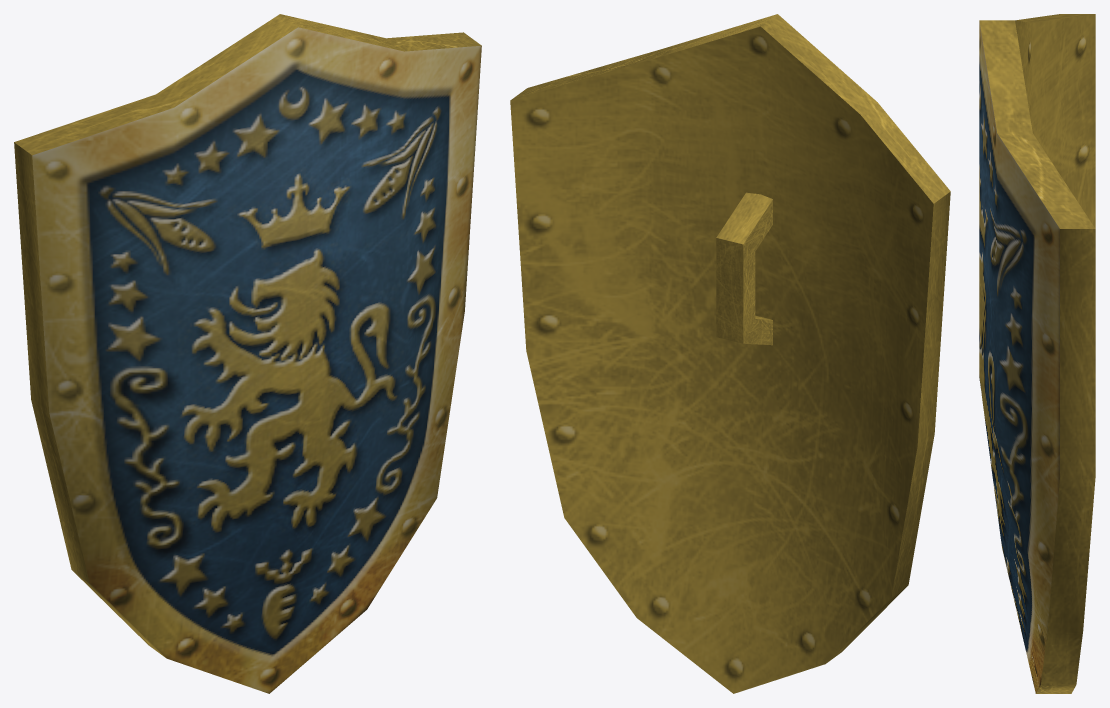
The model's file is large_shield.fbx.
3 renders of one model, left to right at view 1: azimuth 30°, elevation 25°; view 2: azimuth 150°, elevation 25°; view 3: azimuth 270°, elevation 25°, orthographic. The views are drawn at different scales.
Parts seen in each view (by area): view 1: large_shield; view 2: large_shield; view 3: large_shield.
Part boxes in pixels (x1,y1,x2,y2): large_shield: (14, 14, 481, 693); large_shield: (510, 14, 950, 693); large_shield: (979, 14, 1095, 693).
Size of the model in its own units: 43.76 by 63.95 by 9.99.
